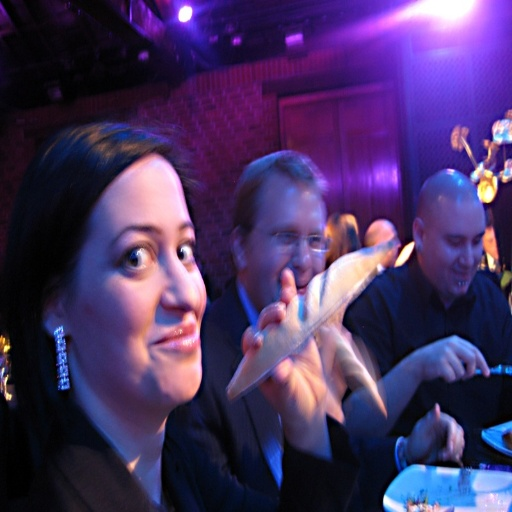hand: (242, 267, 327, 424), (423, 341, 489, 399), (407, 402, 465, 464)
